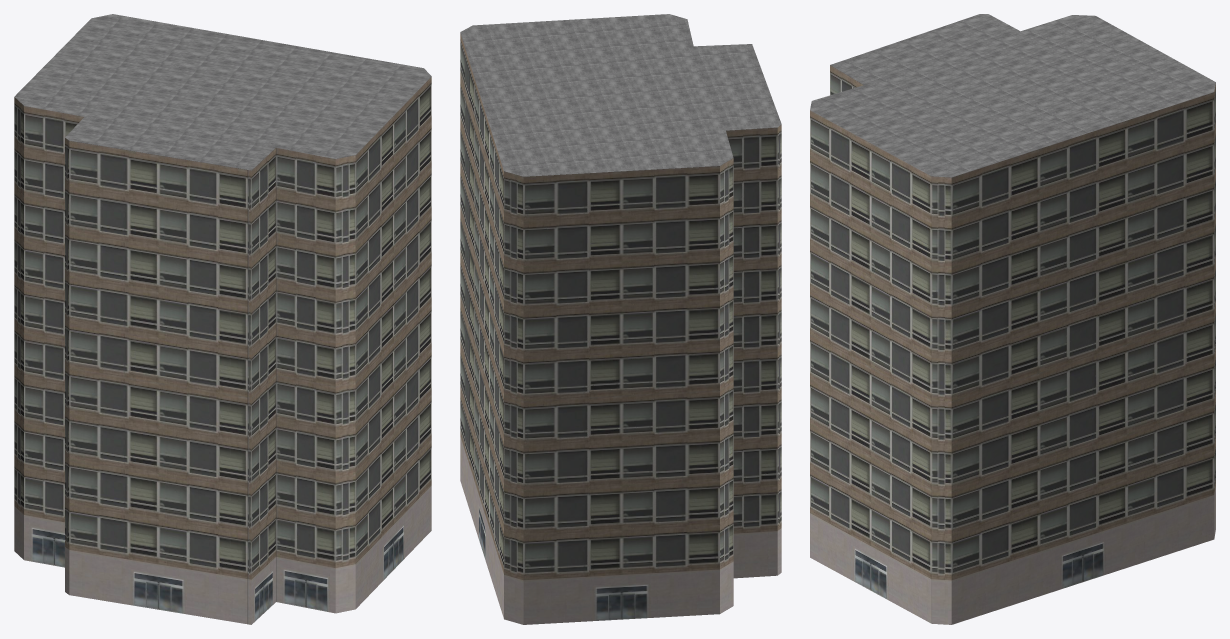
The picture shows the model from 3 angles, left to right: view 1: azimuth 30°, elevation 25°; view 2: azimuth 150°, elevation 25°; view 3: azimuth 270°, elevation 25°; orthographic projection.
Parts seen in each view (by area): view 1: BuildingMaster_1982193745934463799900000000_0, BuildingMaster_1982193745934463799900000000_1; view 2: BuildingMaster_1982193745934463799900000000_0, BuildingMaster_1982193745934463799900000000_1; view 3: BuildingMaster_1982193745934463799900000000_0, BuildingMaster_1982193745934463799900000000_1.
Boxes of the visible parts, box(x1,y1,x2,y2) form: BuildingMaster_1982193745934463799900000000_0: box(14, 76, 431, 624); BuildingMaster_1982193745934463799900000000_1: box(14, 14, 431, 170); BuildingMaster_1982193745934463799900000000_0: box(460, 33, 781, 624); BuildingMaster_1982193745934463799900000000_1: box(460, 14, 781, 176); BuildingMaster_1982193745934463799900000000_0: box(810, 65, 1215, 624); BuildingMaster_1982193745934463799900000000_1: box(810, 14, 1215, 177).
Size of the model in its own units: 27.44 by 35 by 28.78.
Materials: 2 (2 with a texture image).
